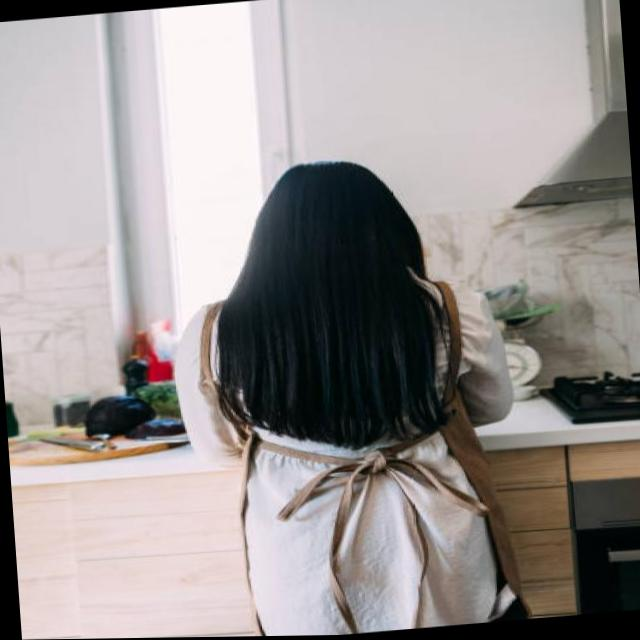no helmet: (232, 151, 440, 314)
